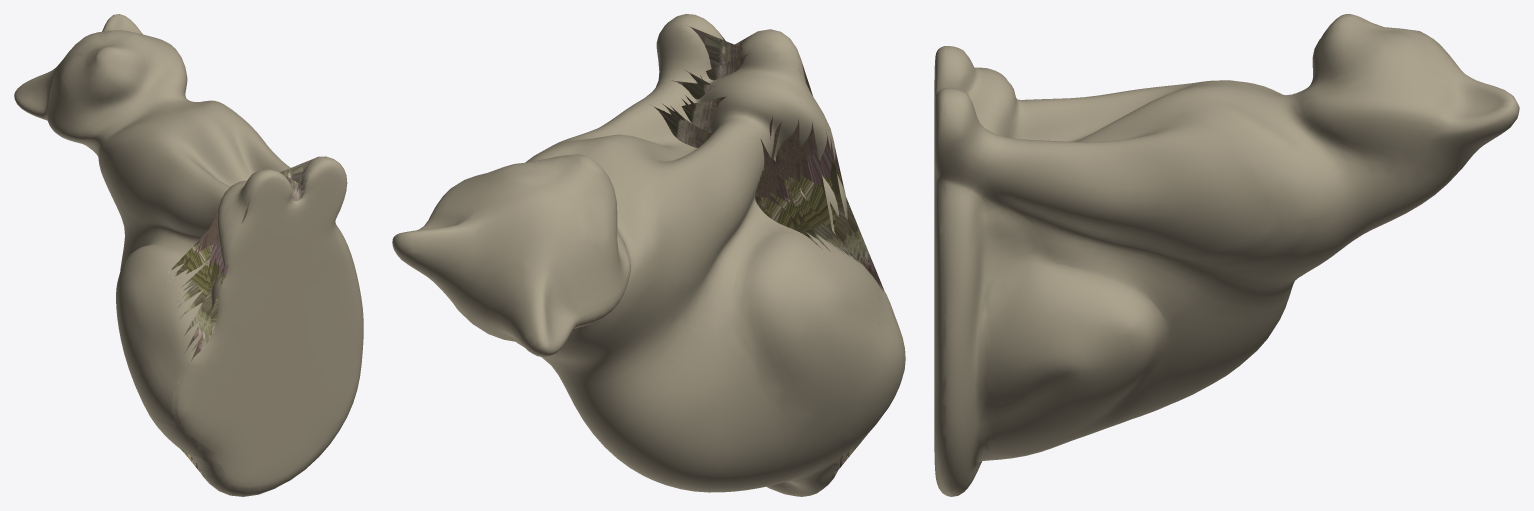
The model's file is CatStatuePrinting-oneMaterial.fbx.
3 views of the same model, side by side, from view 1: azimuth 30°, elevation 25°; view 2: azimuth 150°, elevation 25°; view 3: azimuth 270°, elevation 25° (orthographic). The views are drawn at different scales.
Parts seen in each view (by area): view 1: Plane; view 2: Plane; view 3: Plane.
Boxes of the visible parts, bbox=[...] form: Plane: bbox=[14, 14, 363, 496]; Plane: bbox=[392, 14, 905, 496]; Plane: bbox=[934, 14, 1519, 496].
Size of the model in its own units: 1530 by 2500 by 2830.
Materials: 1 (1 with a texture image).
